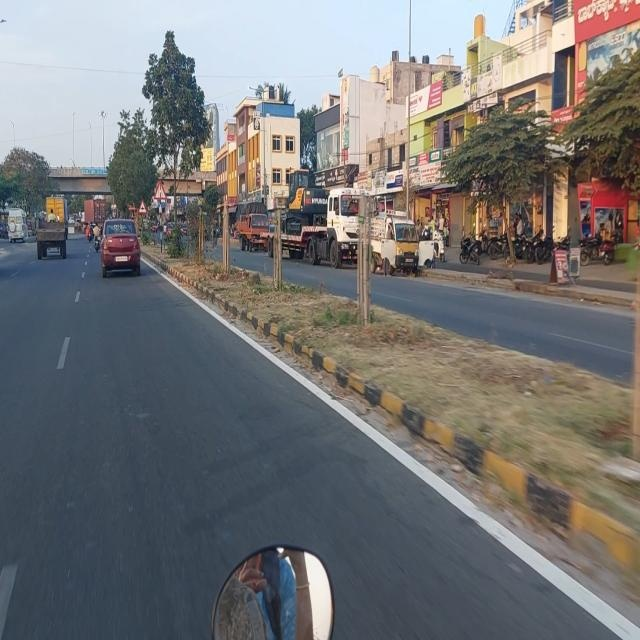bien_nguy_hiem: (153, 176, 167, 200), (138, 198, 147, 215)
